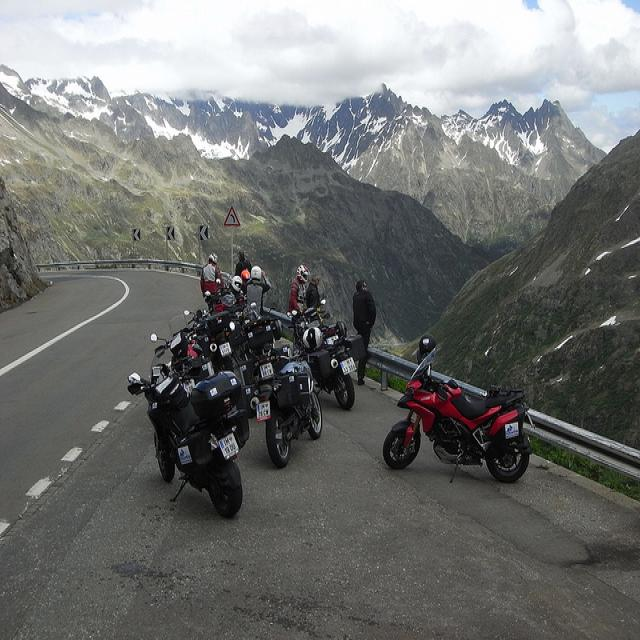motor: (383, 348, 536, 484), (125, 361, 250, 519), (256, 324, 326, 473), (281, 296, 370, 413), (211, 313, 262, 415), (152, 314, 221, 387), (233, 296, 284, 361), (204, 288, 237, 312), (183, 308, 213, 334), (239, 283, 251, 300)
